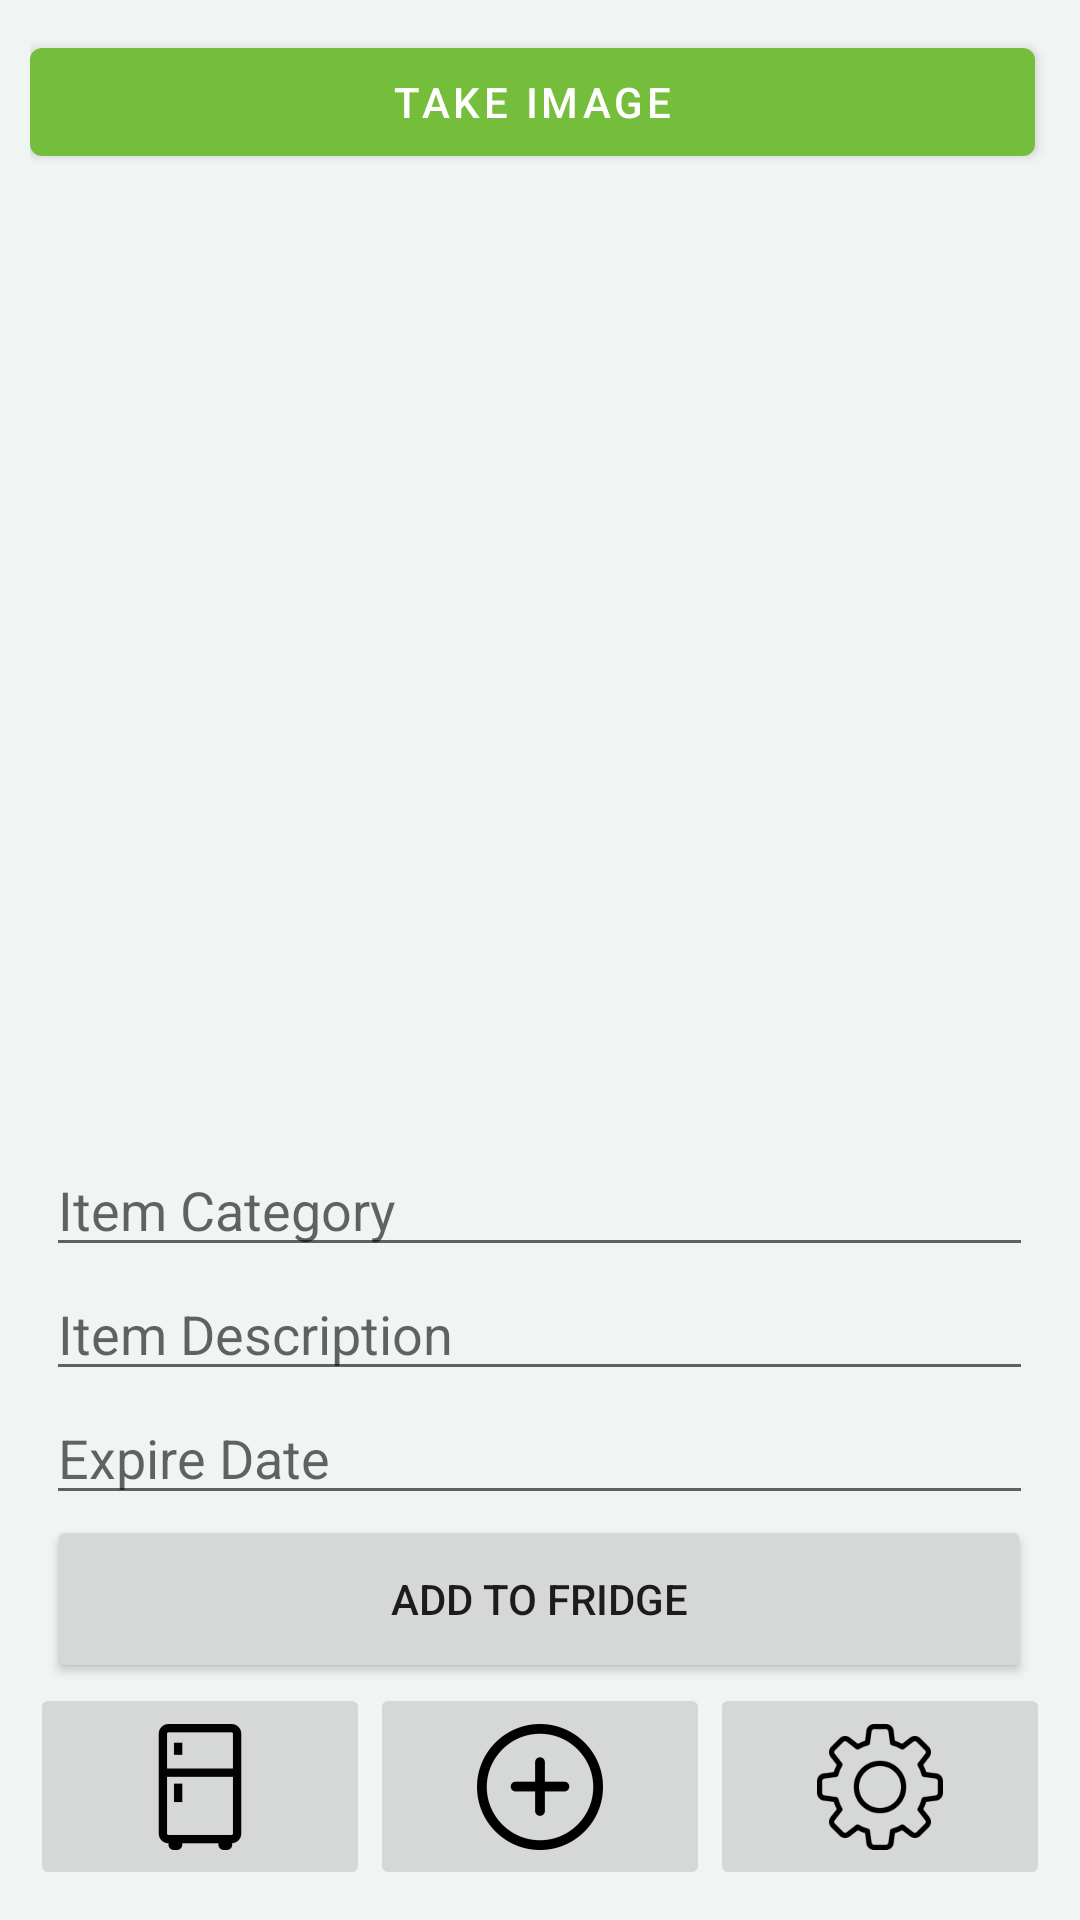

Where icons sit on this 1080px×1920px app screen, as (left=x1, top=y1, right=x2, bottom=y2):
settings: (left=722, top=1701, right=1038, bottom=1872)
